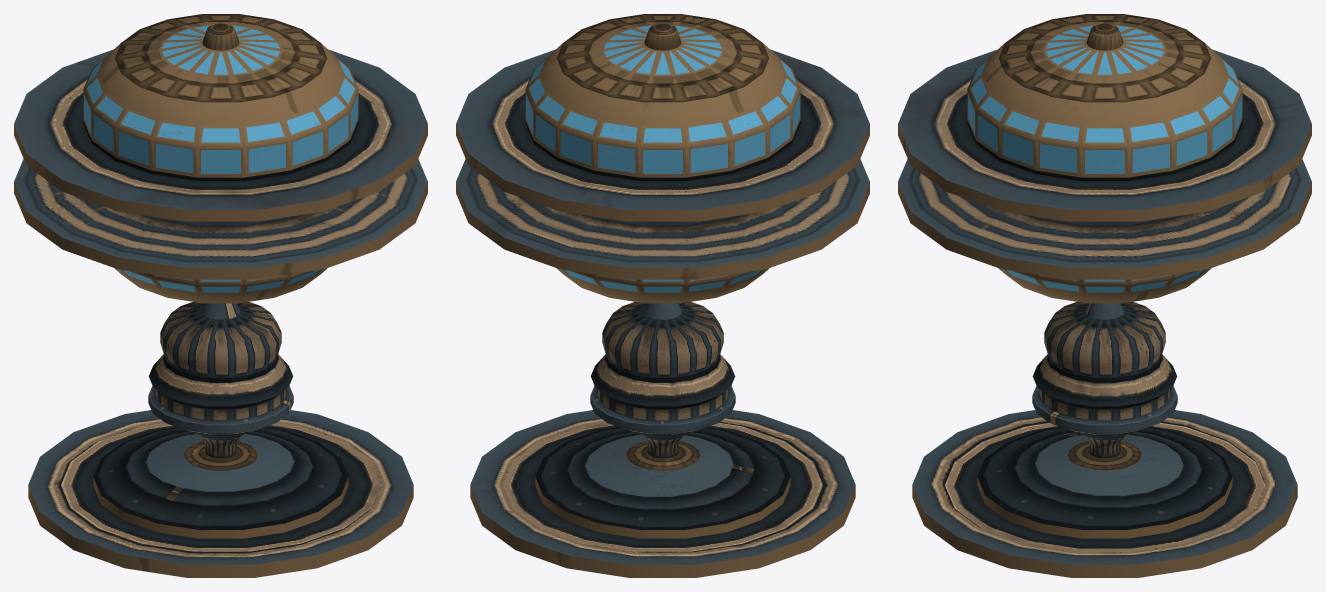
File: Desk Lamp 2.fbx
The picture shows the model from 3 angles, left to right: view 1: azimuth 30°, elevation 25°; view 2: azimuth 150°, elevation 25°; view 3: azimuth 270°, elevation 25°; orthographic projection.
Parts seen in each view (by area): view 1: Cylinder; view 2: Cylinder; view 3: Cylinder.
Boxes of the visible parts, box(x1,y1,x2,y2) form: Cylinder: box(14, 14, 427, 577); Cylinder: box(456, 14, 869, 577); Cylinder: box(898, 14, 1311, 577).
Size of the model in its own units: 68.51 by 87.25 by 69.56.
